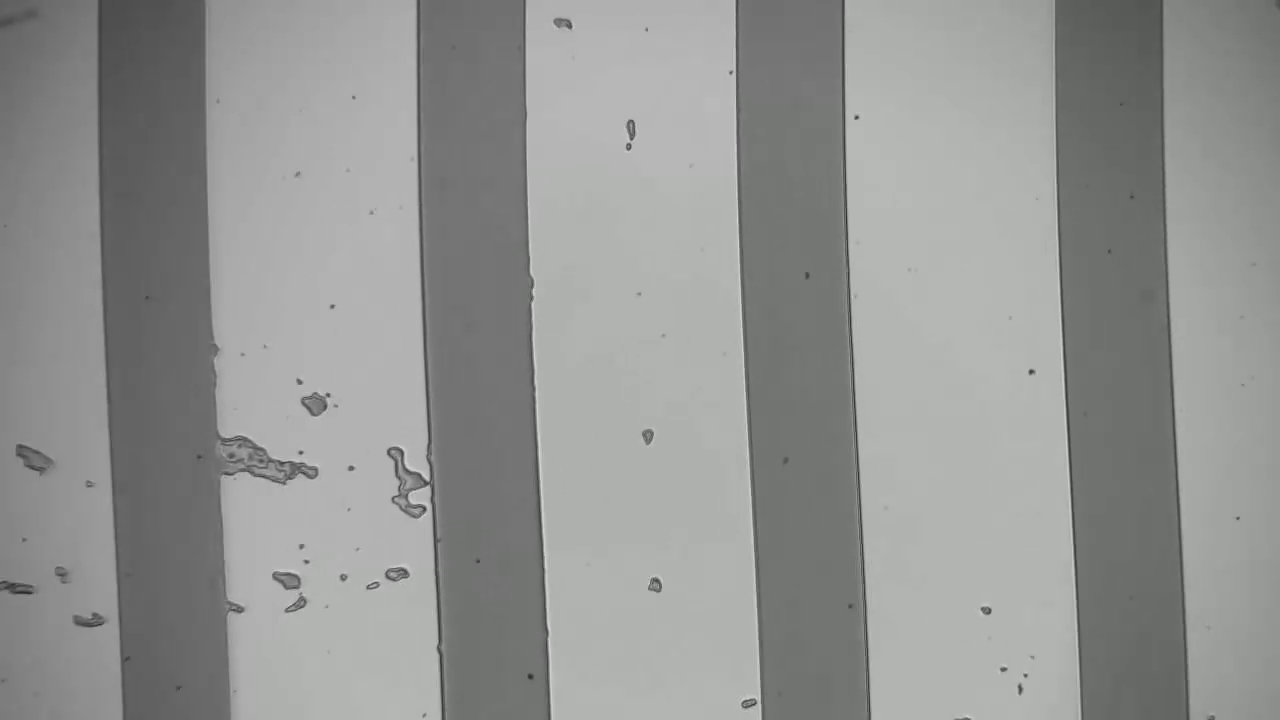edge_bite: (203, 332, 231, 366), (523, 270, 547, 299)
